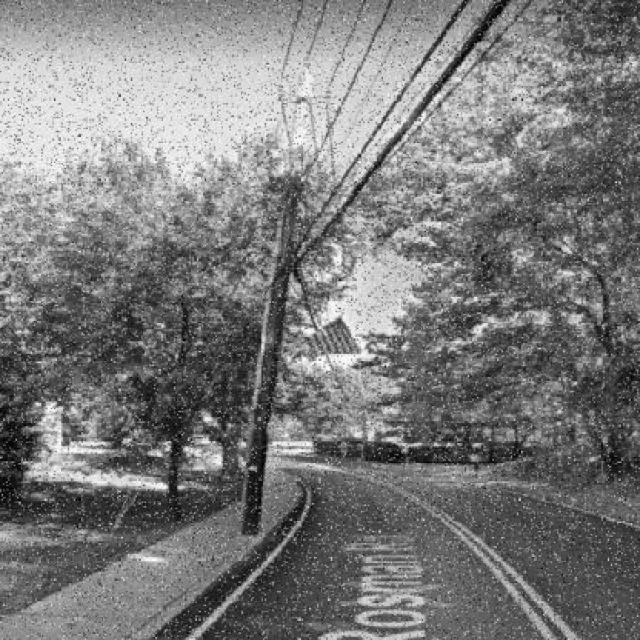pole: (242, 189, 302, 538)
wire: (296, 0, 514, 273), (297, 0, 471, 247), (299, 0, 396, 188)
